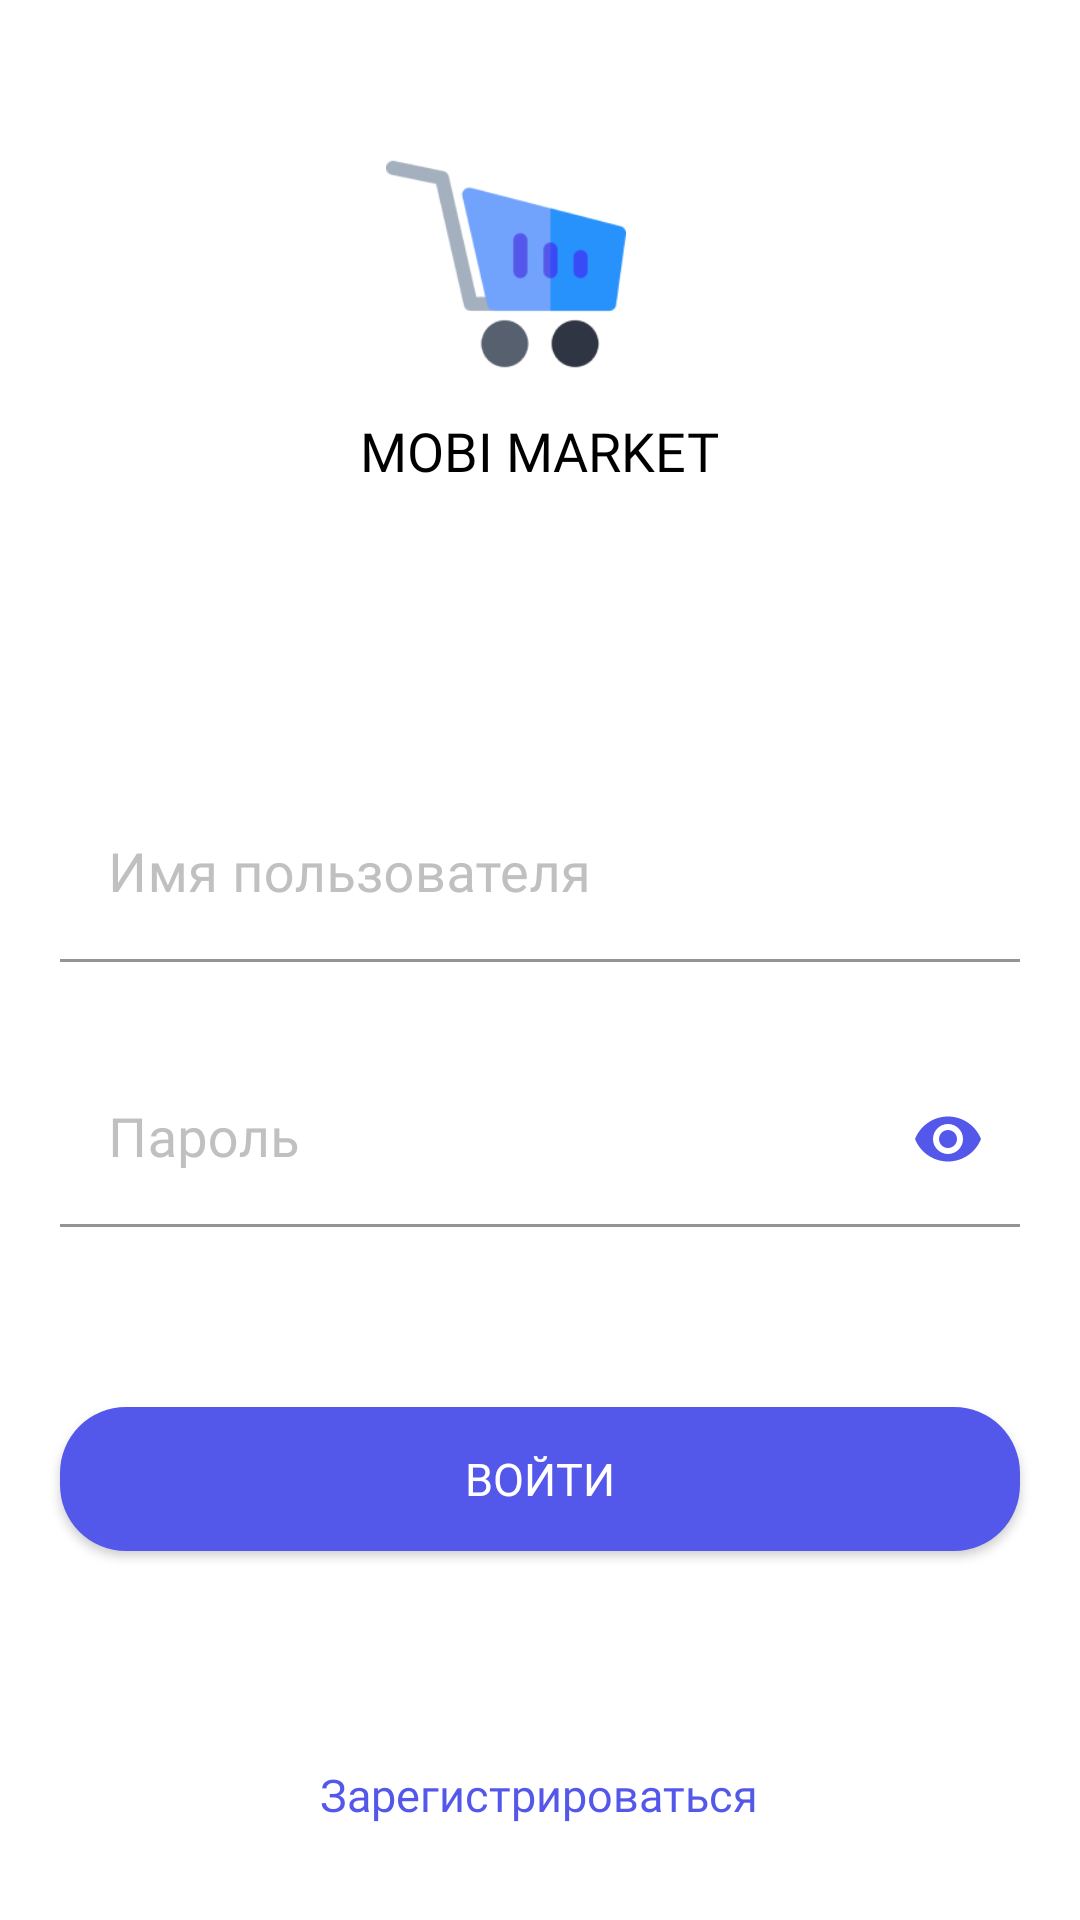

Icons on this 1080px x 1920px Android screen, each with its box as [left=x1, top=y1, right=x2, bottom=y2]:
mainimg: [left=386, top=161, right=626, bottom=368]
